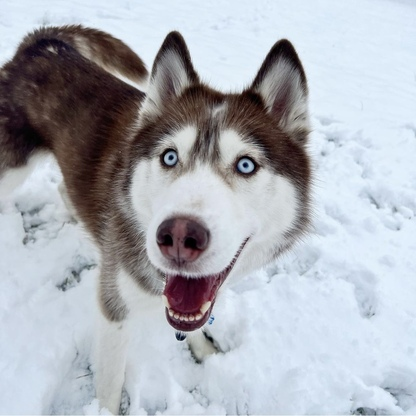husky: (1, 19, 320, 416)
